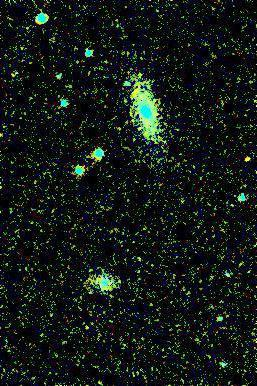star: (233, 146, 257, 176)
